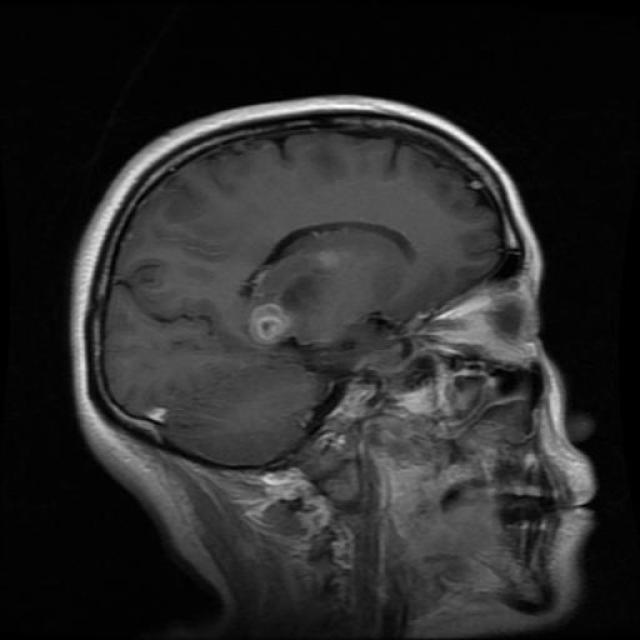glioma: (233, 197, 408, 367)
